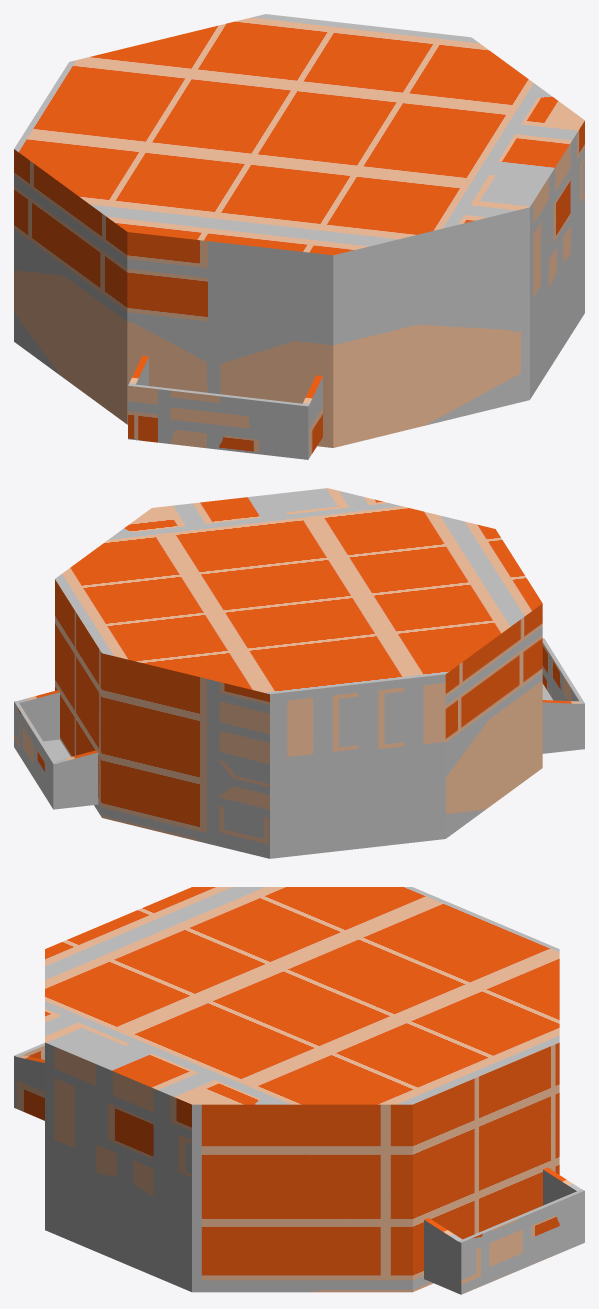
The model's file is 2_balkonlu_kat.fbx.
3 renders of one model, top to bottom at view 1: azimuth 30°, elevation 25°; view 2: azimuth 150°, elevation 25°; view 3: azimuth 270°, elevation 25°, orthographic. The views are drawn at different scales.
Visible parts, largest first — view 1: Cube.003; view 2: Cube.003; view 3: Cube.003.
Boxes of the visible parts, x1,y1,x2,y2 form: Cube.003: (14, 14, 584, 459); Cube.003: (14, 488, 584, 858); Cube.003: (14, 887, 584, 1294).
Size of the model in its own units: 221 by 80.52 by 222.
